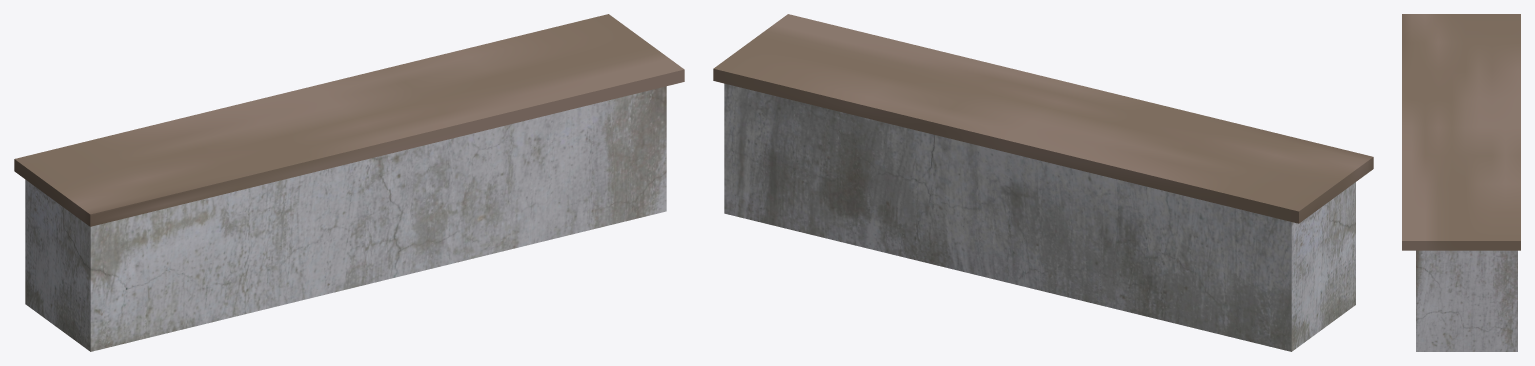
File: house_door0a.fbx
The picture shows the model from 3 angles, left to right: view 1: azimuth 30°, elevation 25°; view 2: azimuth 150°, elevation 25°; view 3: azimuth 270°, elevation 25°; orthographic projection. The views are drawn at different scales.
Parts seen in each view (by area): view 1: house_door0a; view 2: house_door0a; view 3: house_door0a.
Part boxes in pixels (x1=…): house_door0a: x1=14, y1=14, x2=684, y2=351; house_door0a: x1=713, y1=14, x2=1373, y2=351; house_door0a: x1=1402, y1=14, x2=1520, y2=351.
Bounding box in the file's own units: 1.7 × 0.3994 × 0.3758.
